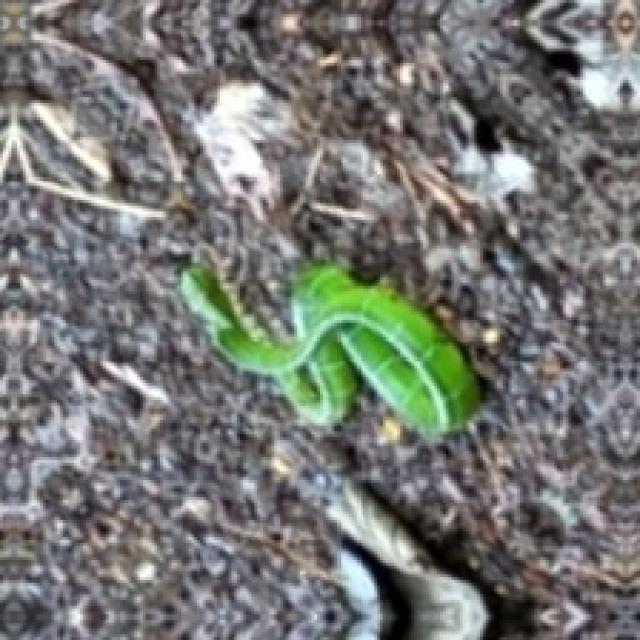north ph temple pitviper: (180, 263, 480, 437)
